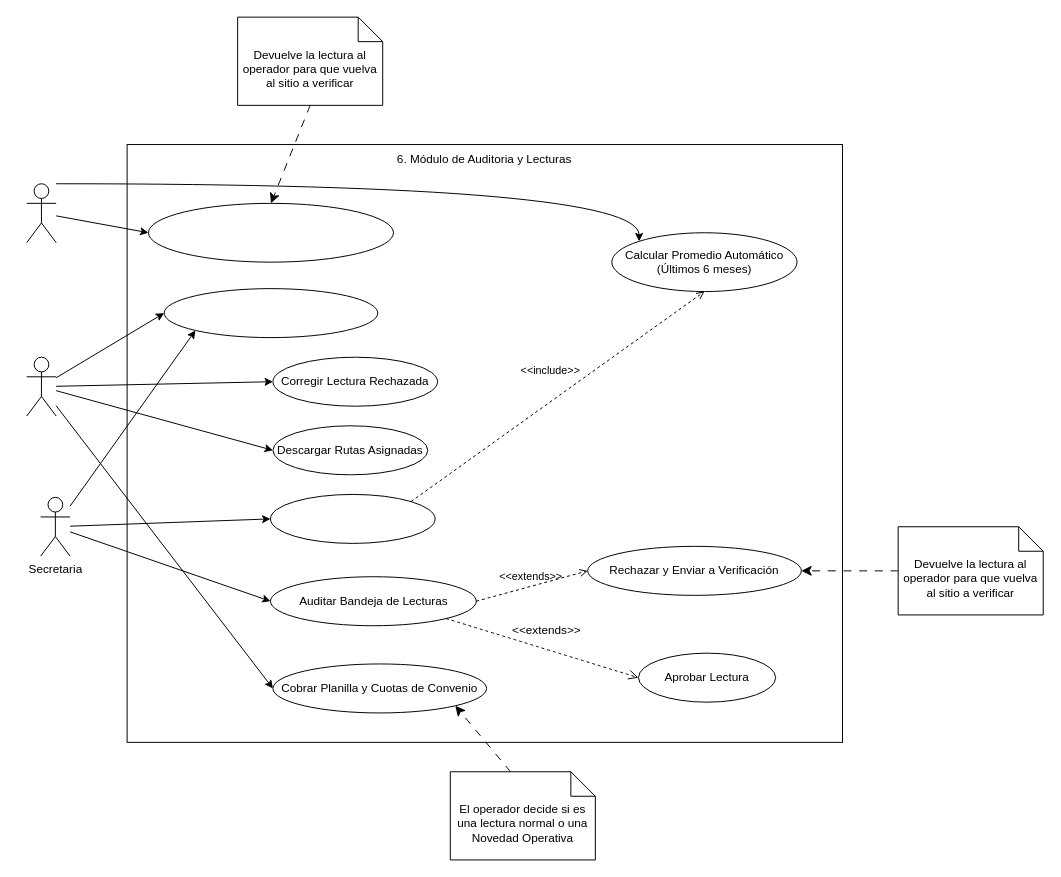
This 1061x877 diagram has some shape labels left out. The shapes that lost their labels are listed below. From the top down, each one's centre as x and y in pixels, then its label:
At (41,213): "Sistema".
At (270,232): "Generar Emisión Masiva (Solo estados APROBADA o ESTIMA)".
At (270,313): "Autenticar sesión segura (JWT + HttpONly Cookies)".
At (41,386): "Operador".
At (352,518): "Gestionar Novedad Operativa (Ej. Medidor Dañado)".
